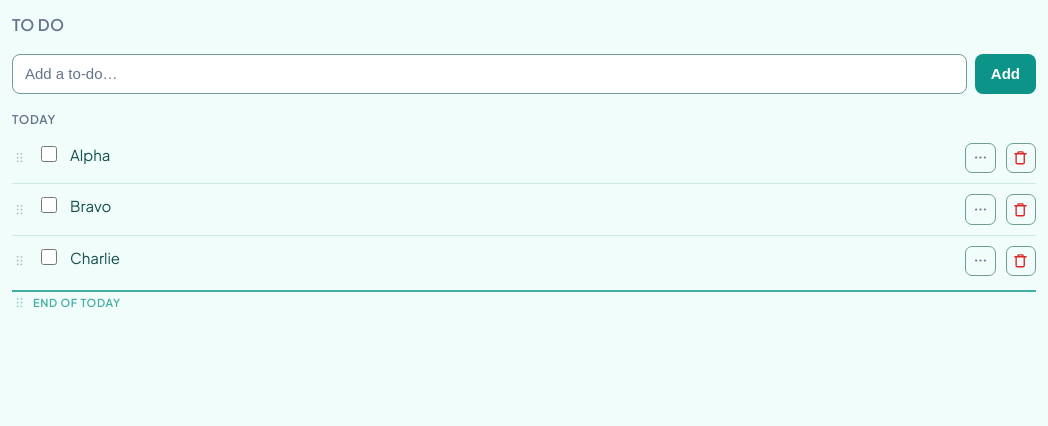
Test: TodoSection — send to top / bottom (CHANGE-34, via the 50-B actions menu) › surfaces a failed reorder instead of silently reverting
Expected: the button "Charlie" is shown, x1=70 y1=246 x2=955 y2=270
Click the button named "Actions for \"Charlie\"": x=980, y=261 x1=965 y1=246 x2=996 y2=276
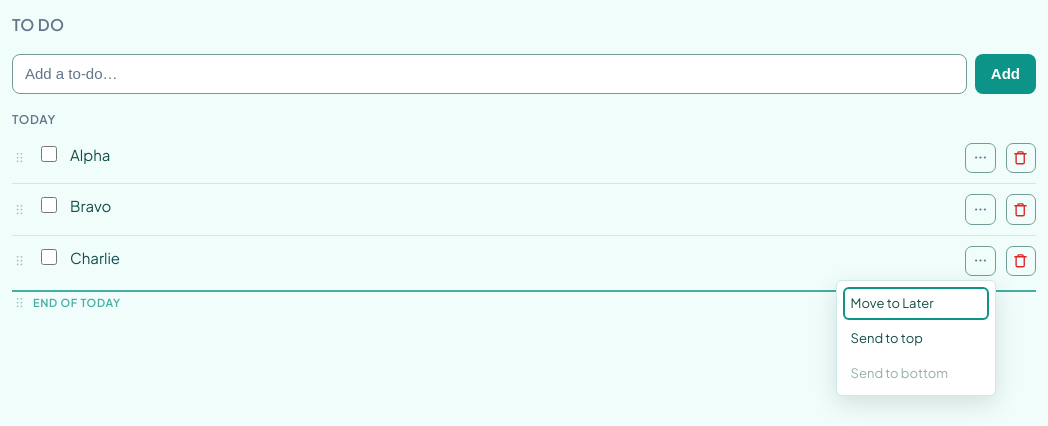
Click the menu item "Send to top": x=916, y=338 x1=843 y1=322 x2=989 y2=355
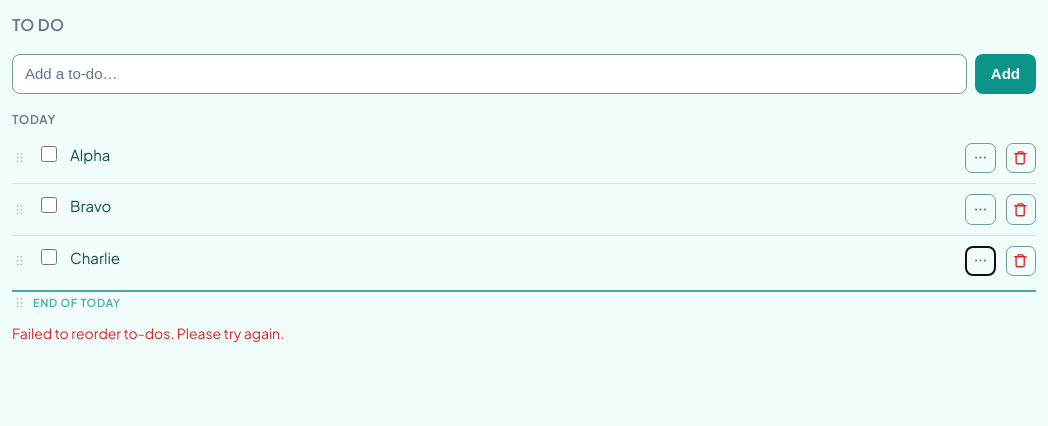
Expected: the message shows "Failed to reorder", x1=12 y1=324 x2=284 y2=342
